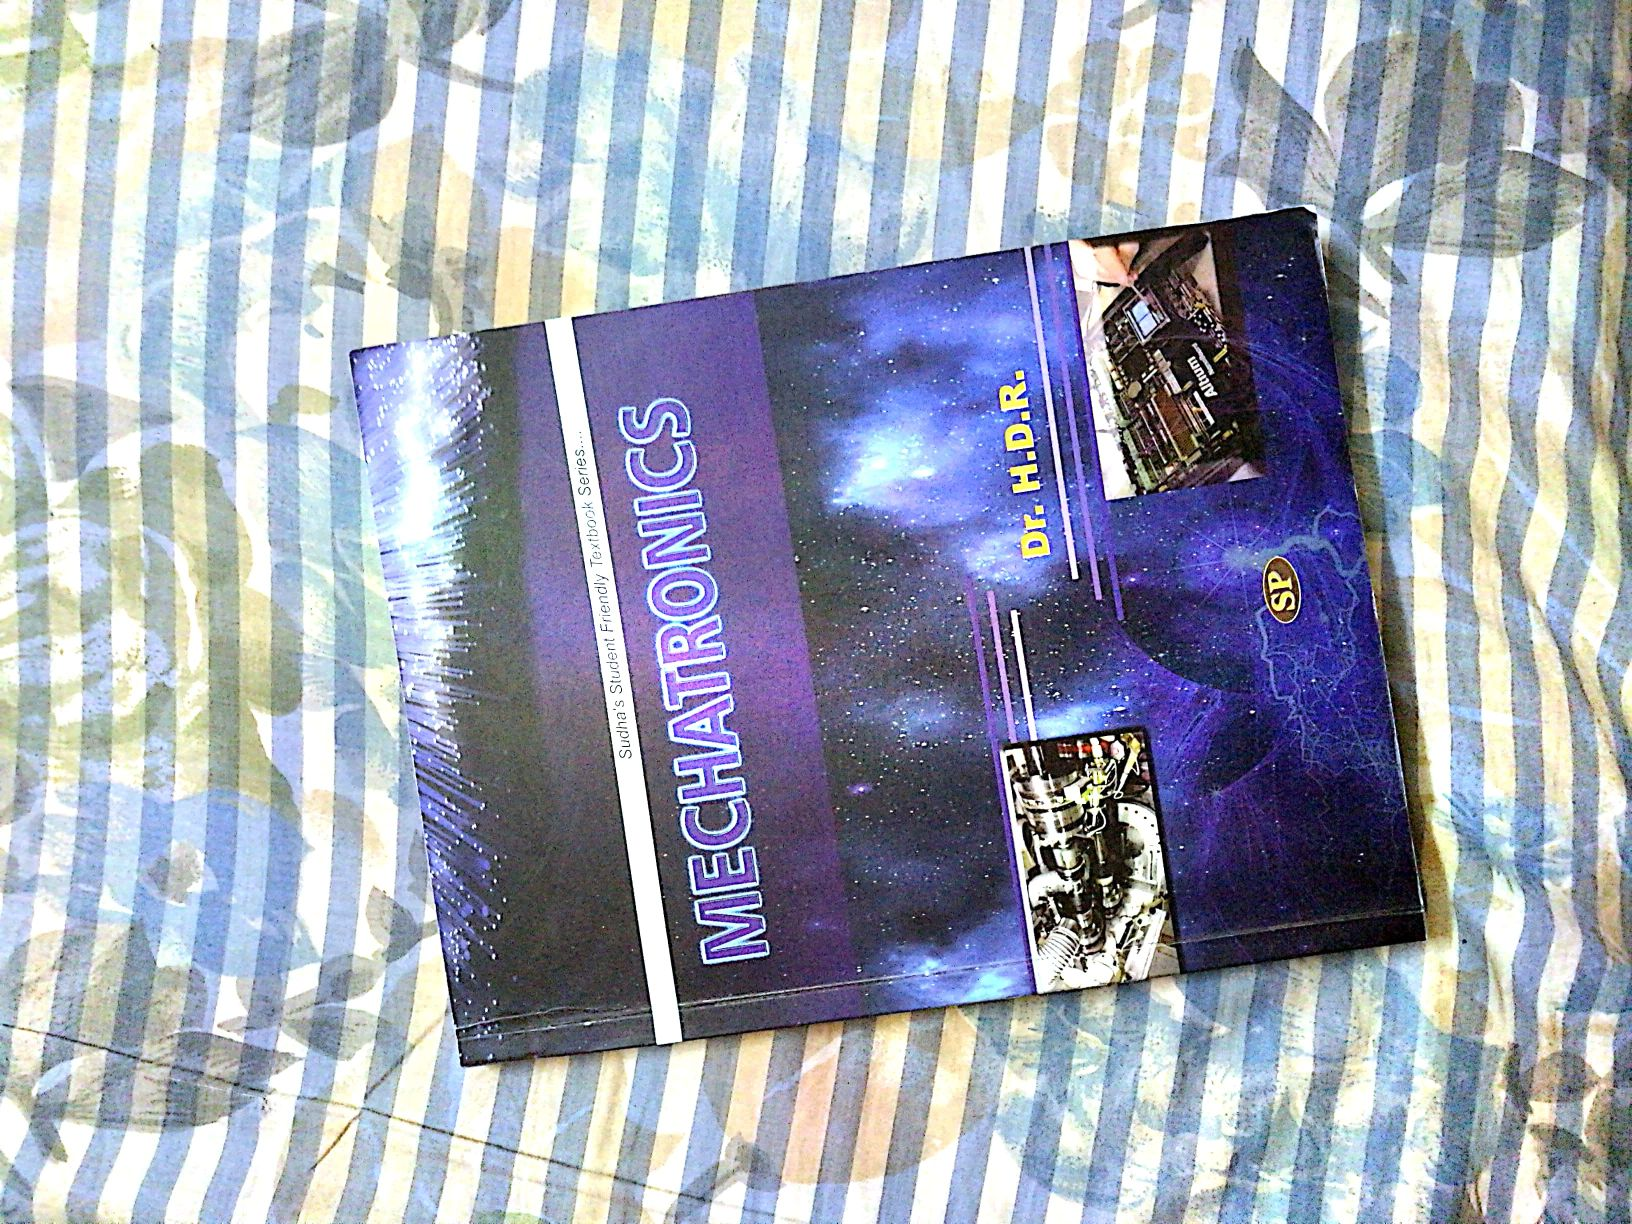mechatronics: (328, 189, 1452, 1056)
